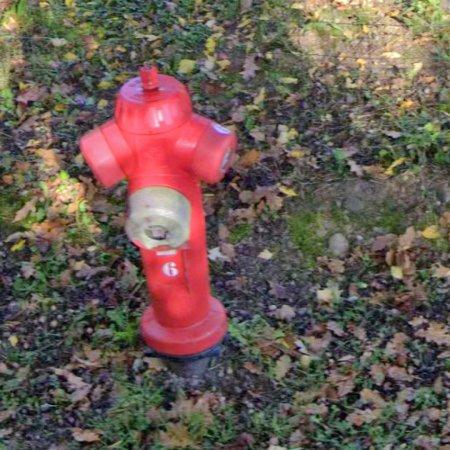a fire hydrant: (80, 66, 237, 357)
